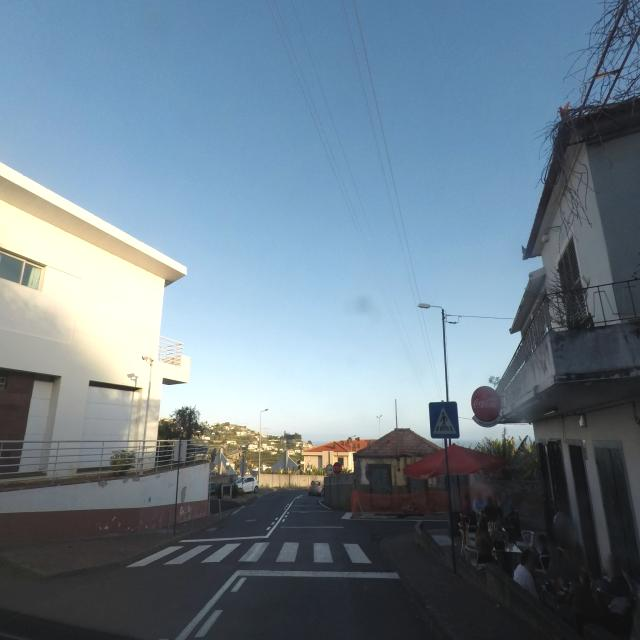car: (232, 475, 260, 494), (308, 481, 324, 496)
